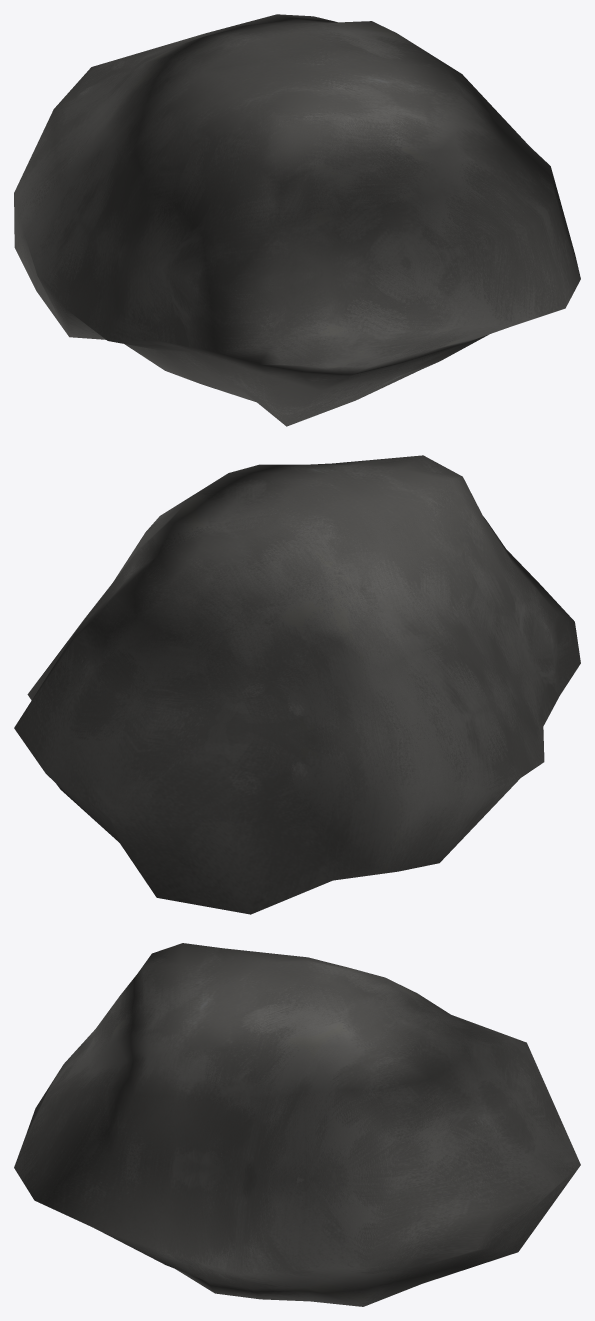
The model's file is Rock05_Geo.fbx.
The picture shows the model from 3 angles, top to bottom: view 1: azimuth 30°, elevation 25°; view 2: azimuth 150°, elevation 25°; view 3: azimuth 270°, elevation 25°; orthographic projection. The views are drawn at different scales.
Parts seen in each view (by area): view 1: Rock05_Geo; view 2: Rock05_Geo; view 3: Rock05_Geo.
Boxes of the visible parts, x1,y1,x2,y2 form: Rock05_Geo: (14,14,580,426); Rock05_Geo: (14,455,580,914); Rock05_Geo: (14,943,580,1306).
Size of the model in its own units: 88.42 by 64.36 by 107.
